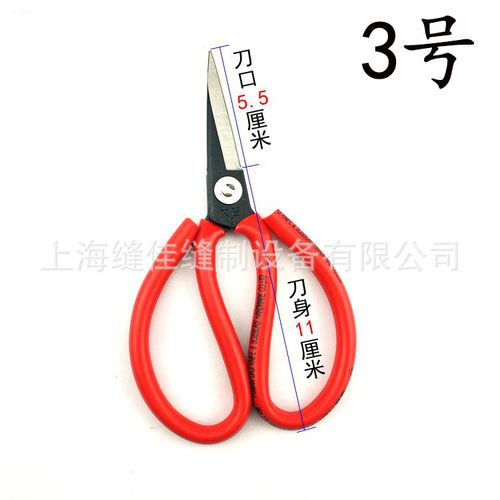scissor: (125, 49, 357, 444)
